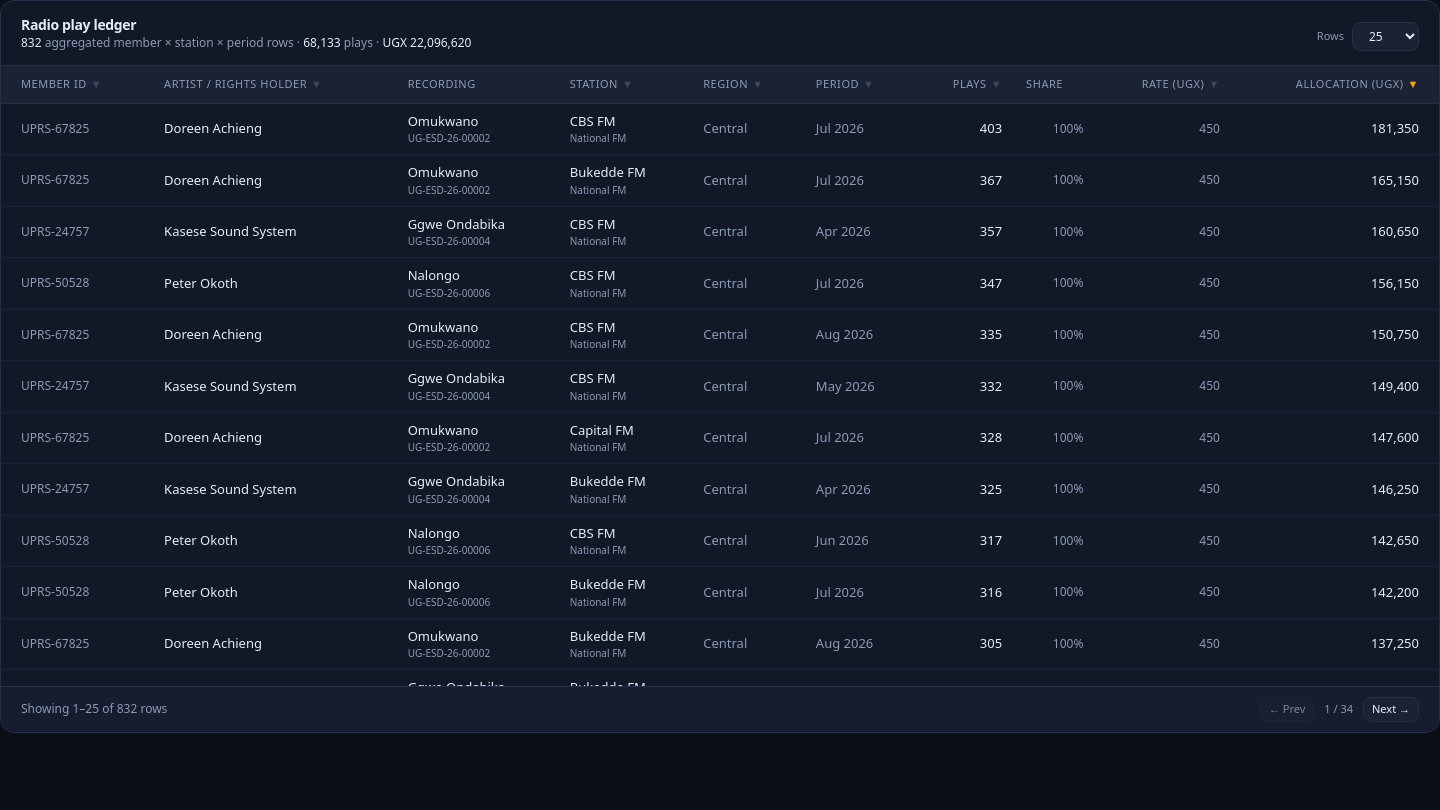
it: CmoTable › pages forward
The width and height of the screenshot is (1440, 810).
Click the button "Next →" at (1391, 709), box [1363,697,1419,722]
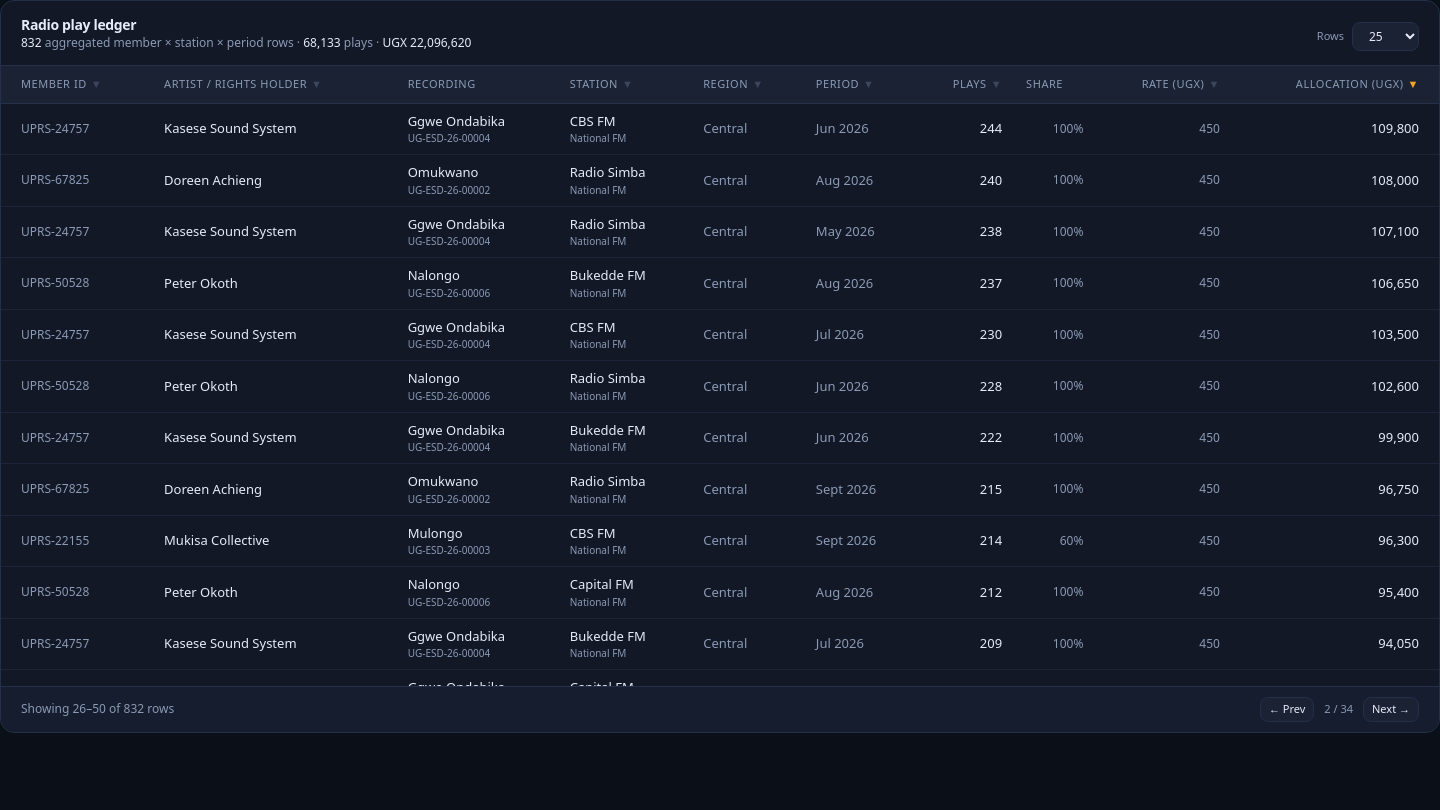
Expected: the text "2 / 34" is shown, [1324,701,1353,716]
